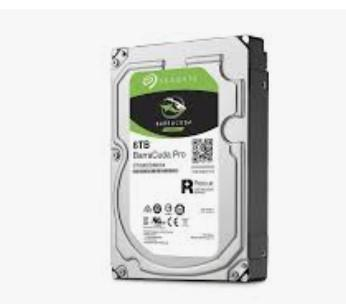internal HDD: (106, 34, 268, 284)
